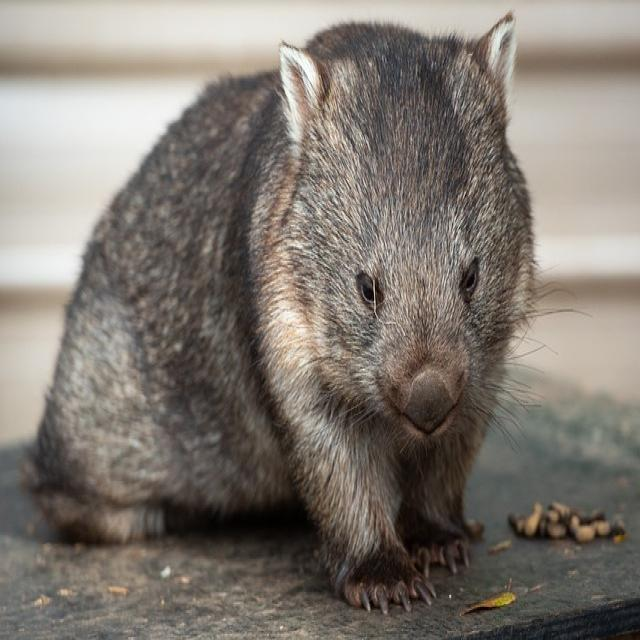Wombat: (33, 21, 538, 616)
